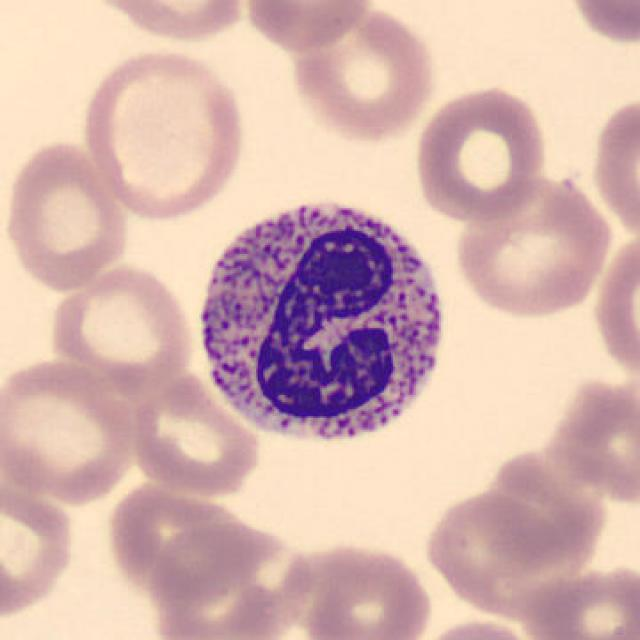Basophil: (187, 183, 460, 464)
Neutrophil: (187, 183, 460, 464)
RBC: (78, 44, 251, 224), (450, 169, 615, 321), (285, 2, 439, 146), (0, 352, 142, 508), (0, 134, 132, 294), (148, 518, 316, 640), (46, 261, 198, 393), (411, 81, 551, 224), (104, 474, 260, 597), (420, 487, 567, 615), (126, 368, 263, 499), (491, 440, 610, 582), (289, 537, 437, 640), (540, 371, 640, 512), (0, 477, 82, 624), (522, 560, 640, 640), (588, 88, 638, 247), (590, 226, 638, 390), (82, 0, 250, 46), (238, 0, 377, 53), (560, 0, 640, 48), (412, 615, 540, 640)
